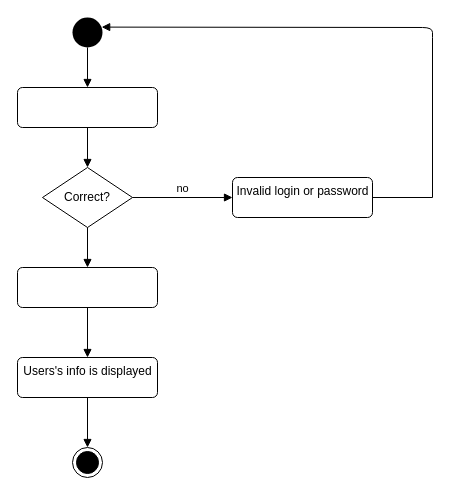
The diagram is 458 pixels wide and 495 high, and some of its shapes have lost their labels. The centre of each missing label's shape, as x and y in pixels:
"User enters login and password" goes at (87,107).
"User logs in" goes at (87,287).
